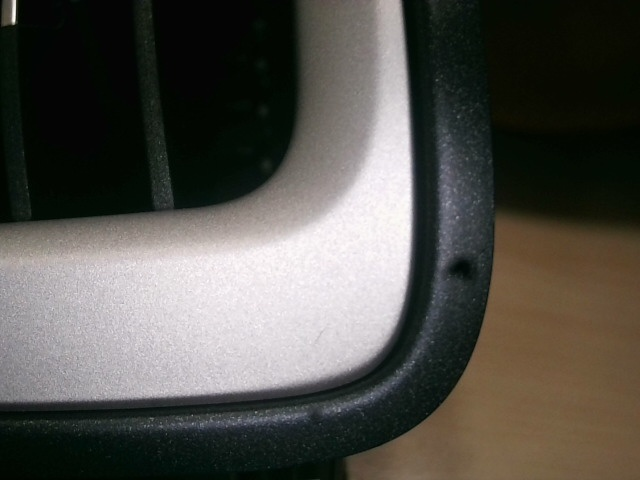NG: (312, 324, 334, 348), (473, 244, 489, 267)
